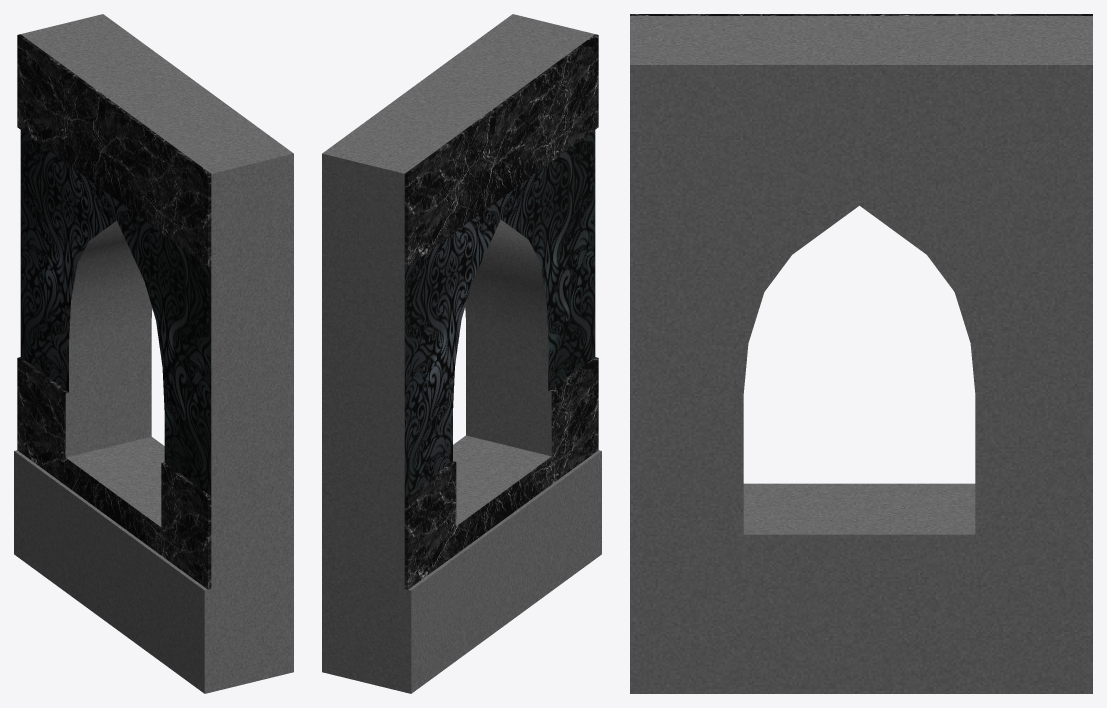
File: Wall_Window.fbx
The picture shows the model from 3 angles, left to right: view 1: azimuth 30°, elevation 25°; view 2: azimuth 150°, elevation 25°; view 3: azimuth 270°, elevation 25°; orthographic projection. The views are drawn at different scales.
Parts seen in each view (by area): view 1: Box001; view 2: Box001; view 3: Box001.
Boxes of the visible parts, bbox=[...] form: Box001: bbox=[14, 14, 293, 693]; Box001: bbox=[322, 14, 601, 693]; Box001: bbox=[630, 14, 1092, 693].
Size of the model in its own units: 0.54 by 3 by 2.
